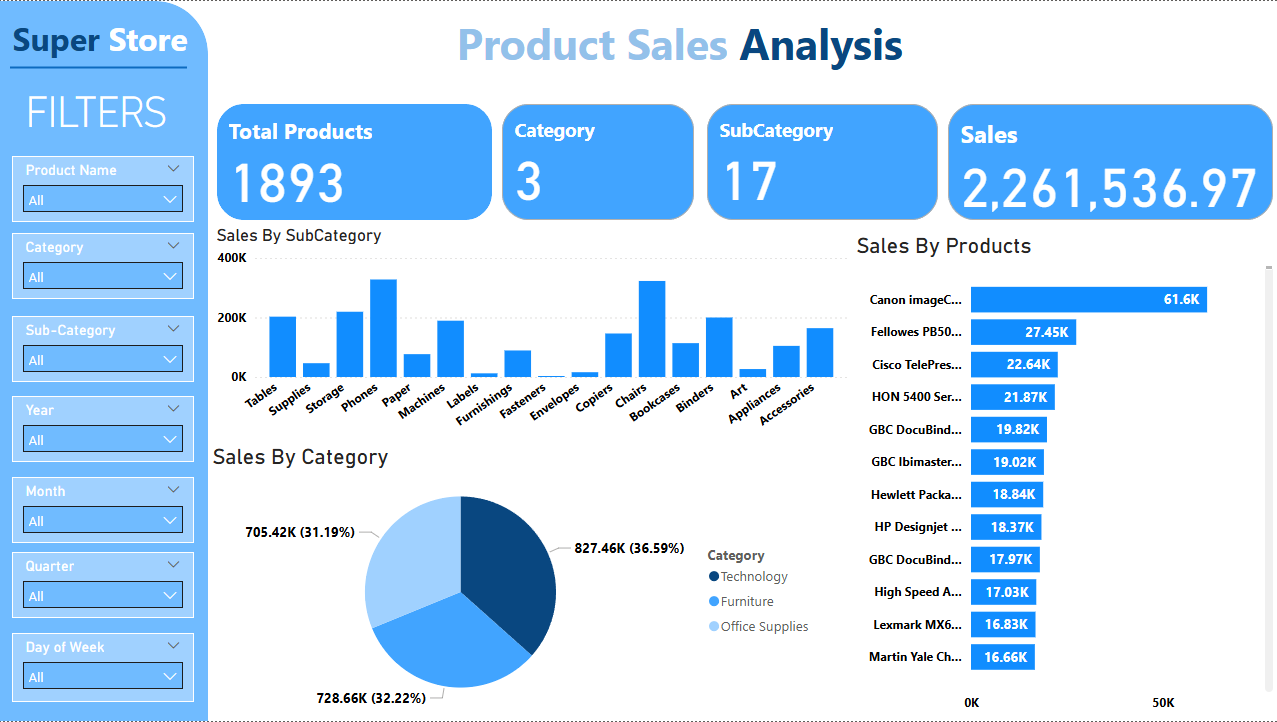

The page's visual inventory and layout, read from the dashboard file:
{"tool":"powerbi","page":{"name":"Products","canvas":[1280,720],"ordinal":1},"visuals":[{"type":"shape","box":[0,0,210,720],"z":0},{"type":"cardVisual","title":"Total Products","fields":{"Data":["FactTable.TotalProduct"]},"box":[214,98,285,126],"z":1000},{"type":"textbox","box":[454,8,532,90],"z":2000},{"type":"cardVisual","fields":{"Data":["FactTable.TotalSales","FactTable.TotalSales"]},"box":[945,98,335,126],"z":3000},{"type":"barChart","title":"Sales By Products","fields":{"Category":["DimProduct.Product Name"],"Y":["FactTable.TotalSales"]},"box":[854,232,426,488],"z":4000},{"type":"pieChart","title":"Sales By Category","fields":{"Category":["DimProduct.Category"],"Y":["FactTable.TotalSales"]},"box":[210,443,615,277],"z":5000},{"type":"columnChart","title":"Sales By SubCategory","fields":{"Category":["DimProduct.Sub-Category"],"Y":["FactTable.TotalSales"]},"box":[214,224,640,219],"z":6000},{"type":"cardVisual","fields":{"Data":["FactTable.TotalCategory"]},"box":[499,98,202,126],"z":7000},{"type":"cardVisual","fields":{"Data":["FactTable.SubCategory"]},"box":[704,98,241,126],"z":8000},{"type":"slicer","fields":{"Values":["DimProduct.Category"]},"box":[14,232,182,66],"z":8001},{"type":"slicer","fields":{"Values":["DimDate.Month"]},"box":[14,476,182,66],"z":8002},{"type":"slicer","fields":{"Values":["DimDate.Quarter"]},"box":[14,551,182,66],"z":8003},{"type":"slicer","fields":{"Values":["DimDate.Day of Week"]},"box":[14,632,182,69],"z":8004},{"type":"slicer","fields":{"Values":["DimProduct.Product Name"]},"box":[14,155,182,66],"z":8005},{"type":"slicer","fields":{"Values":["DimProduct.Sub-Category"]},"box":[14,315,182,66],"z":8006},{"type":"slicer","fields":{"Values":["DimDate.Year"]},"box":[14,395,182,66],"z":8007},{"type":"shape","box":[12,44,177,45],"z":8008},{"type":"textbox","box":[12,81,177,60],"z":8009},{"type":"textbox","box":[10,10,226,67],"z":8010}]}

Visuals, with their boxes in screenshot pixels (x1, y1, x2, y2), scaled from the page's 1280x720 canvas onto the 1277x722 screenshot:
shape: 0:0:210:721
"Total Products" cardVisual: 213:98:498:225
textbox: 453:8:984:98
cardVisual - FactTable.TotalSales x FactTable.TotalSales: 943:98:1276:225
"Sales By Products" barChart: 852:233:1276:721
"Sales By Category" pieChart: 210:444:823:721
"Sales By SubCategory" columnChart: 213:225:852:444
cardVisual - FactTable.TotalCategory: 498:98:699:225
cardVisual - FactTable.SubCategory: 702:98:943:225
slicer - DimProduct.Category: 14:233:196:299
slicer - DimDate.Month: 14:477:196:544
slicer - DimDate.Quarter: 14:553:196:619
slicer - DimDate.Day of Week: 14:634:196:703
slicer - DimProduct.Product Name: 14:155:196:222
slicer - DimProduct.Sub-Category: 14:316:196:382
slicer - DimDate.Year: 14:396:196:462
shape: 12:44:189:89
textbox: 12:81:189:141
textbox: 10:10:235:77
